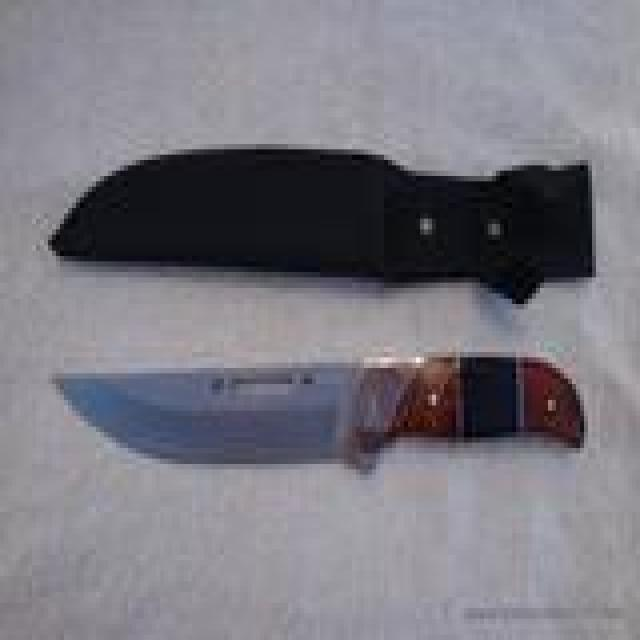Knife: (43, 134, 614, 331), (46, 355, 598, 518)
